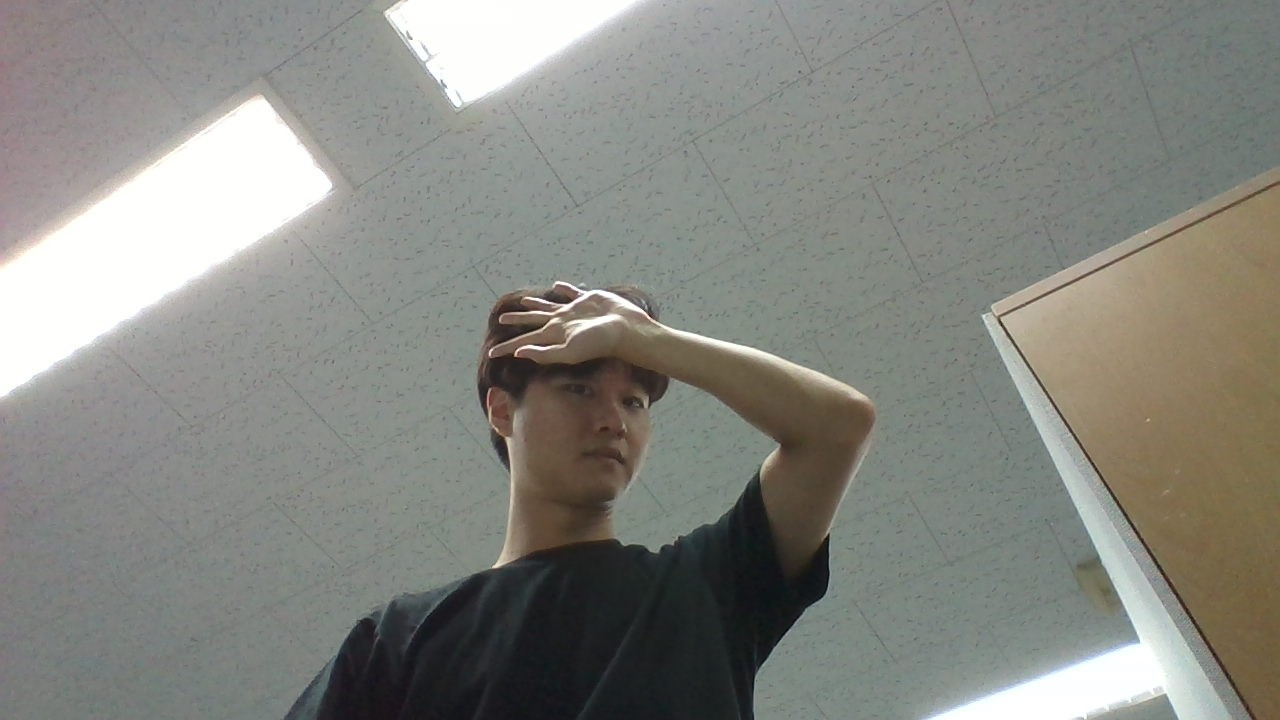Non-Helmet: (450, 251, 685, 519)
